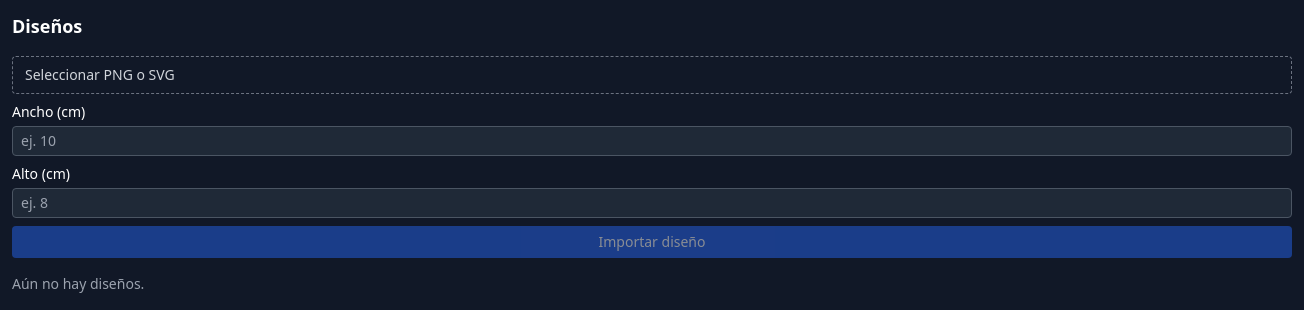
it: DesignList import UI › import button is enabled when file is selected and both dimensions are positive integers
Click the button "Seleccionar PNG o SVG": (100, 74) [12,56,1292,94]
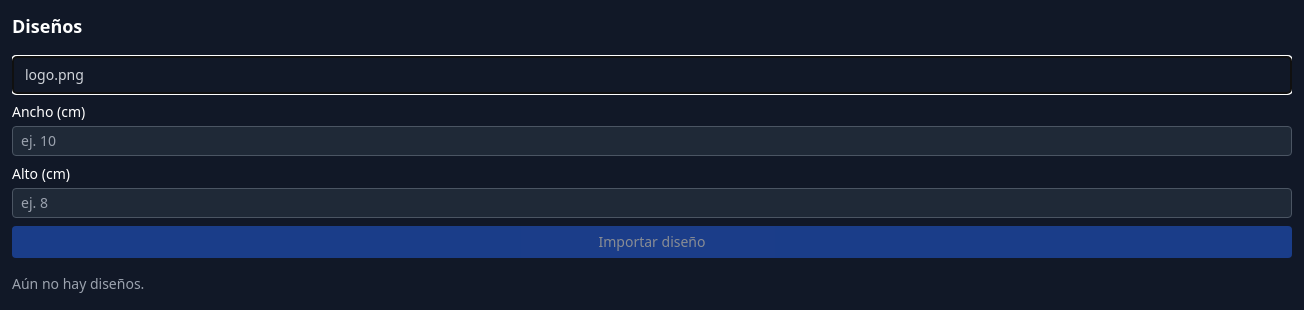
In the number field labelled "Ancho (cm)": (652, 141) [12,126,1292,156], type "10"
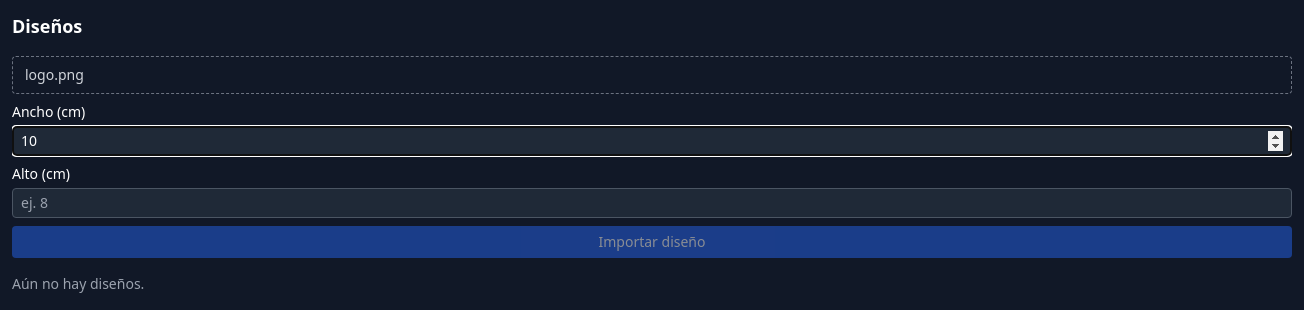
In the number field labelled "Alto (cm)": (652, 203) [12,188,1292,218], type "8"
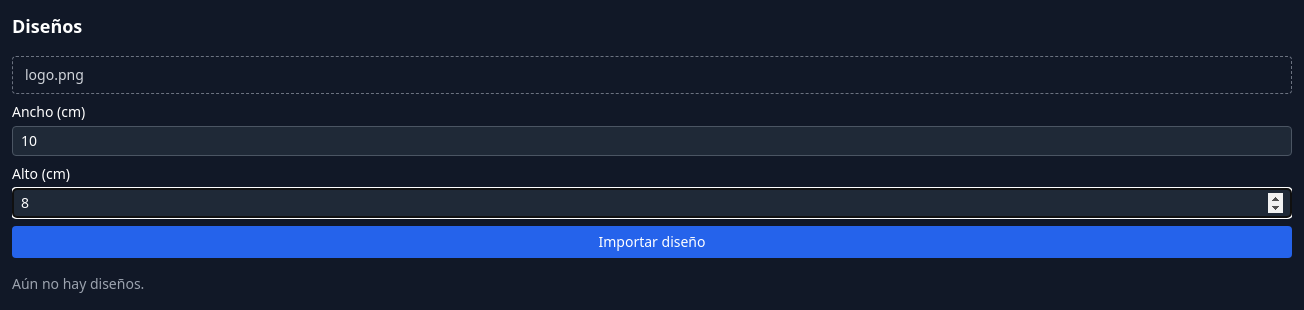
Now the button "Importar diseño" is enabled, box [12,226,1292,258]
